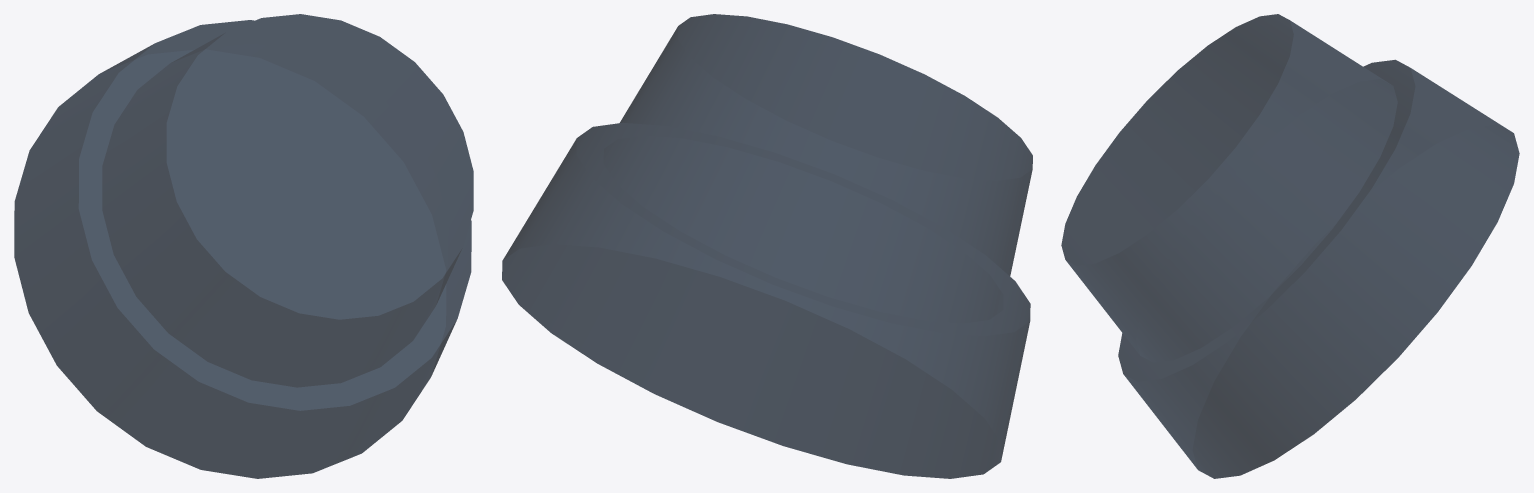
Rendered from original-21.obj.
3 views of the same model, side by side, from view 1: azimuth 30°, elevation 25°; view 2: azimuth 150°, elevation 25°; view 3: azimuth 270°, elevation 25° (orthographic). The views are drawn at different scales.
Visible parts, largest first — view 1: Group21/mesh141/mesh141-geometry#mesh141-geometry; view 2: Group21/mesh141/mesh141-geometry#mesh141-geometry; view 3: Group21/mesh141/mesh141-geometry#mesh141-geometry.
Boxes of the visible parts, <box> form: Group21/mesh141/mesh141-geometry#mesh141-geometry: <box>14,14,473,478</box>; Group21/mesh141/mesh141-geometry#mesh141-geometry: <box>502,14,1032,478</box>; Group21/mesh141/mesh141-geometry#mesh141-geometry: <box>1061,14,1519,478</box>.
Size of the model in its own units: 0.071 by 0.0704 by 0.0704.
